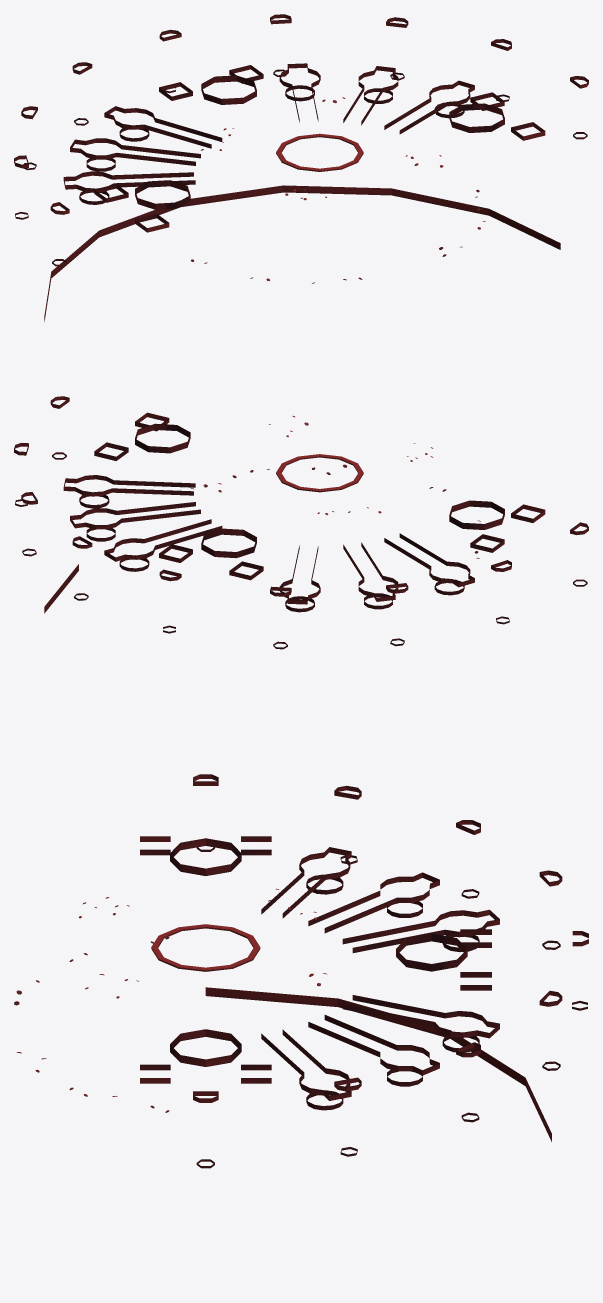
File: Red_01.FBX
The picture shows the model from 3 angles, top to bottom: view 1: azimuth 30°, elevation 25°; view 2: azimuth 150°, elevation 25°; view 3: azimuth 270°, elevation 25°; orthographic projection. The views are drawn at different scales.
Visible parts, largest first — view 1: Red_01; view 2: Red_01; view 3: Red_01.
Part boxes in pixels (<box>): Red_01: <box>14,14,588,321</box>; Red_01: <box>14,396,588,649</box>; Red_01: <box>14,774,588,1168</box>.
Size of the model in its own units: 45.45 by 13.48 by 34.1.
